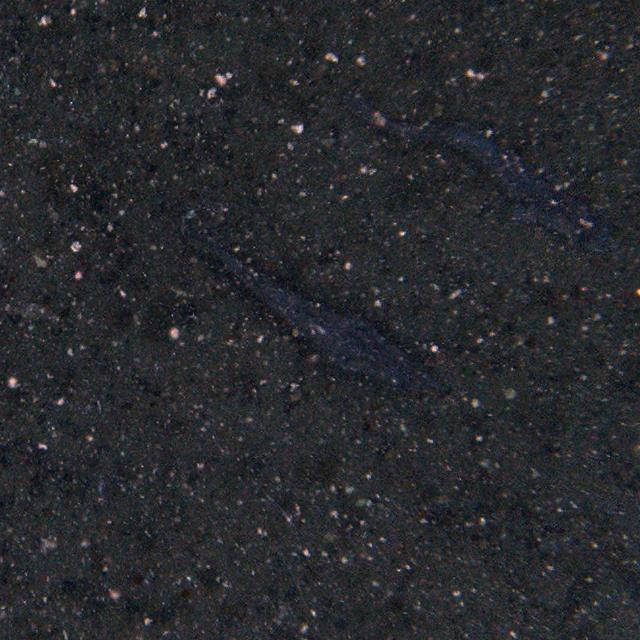roundfish: (189, 226, 442, 397), (346, 104, 616, 256)
